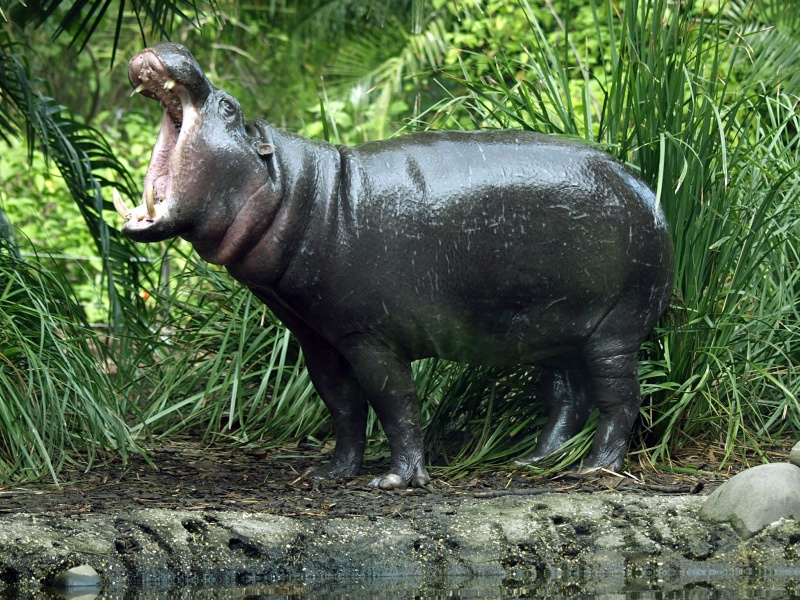hipopotamo: (109, 40, 678, 489)
